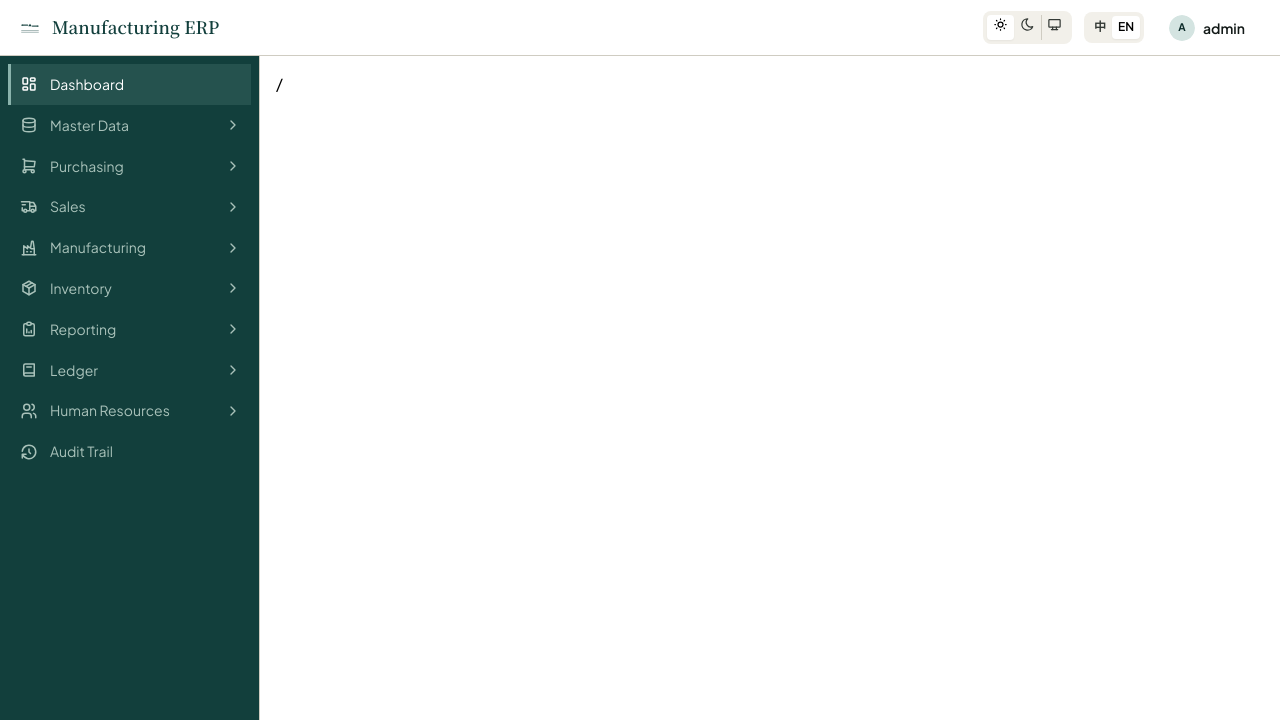
Scenario: AppLayout navigation (ERP-001) › expands a section via its chevron without navigating
Click the button named "purchasing".
click(233, 166)  # box [219,152,247,180]
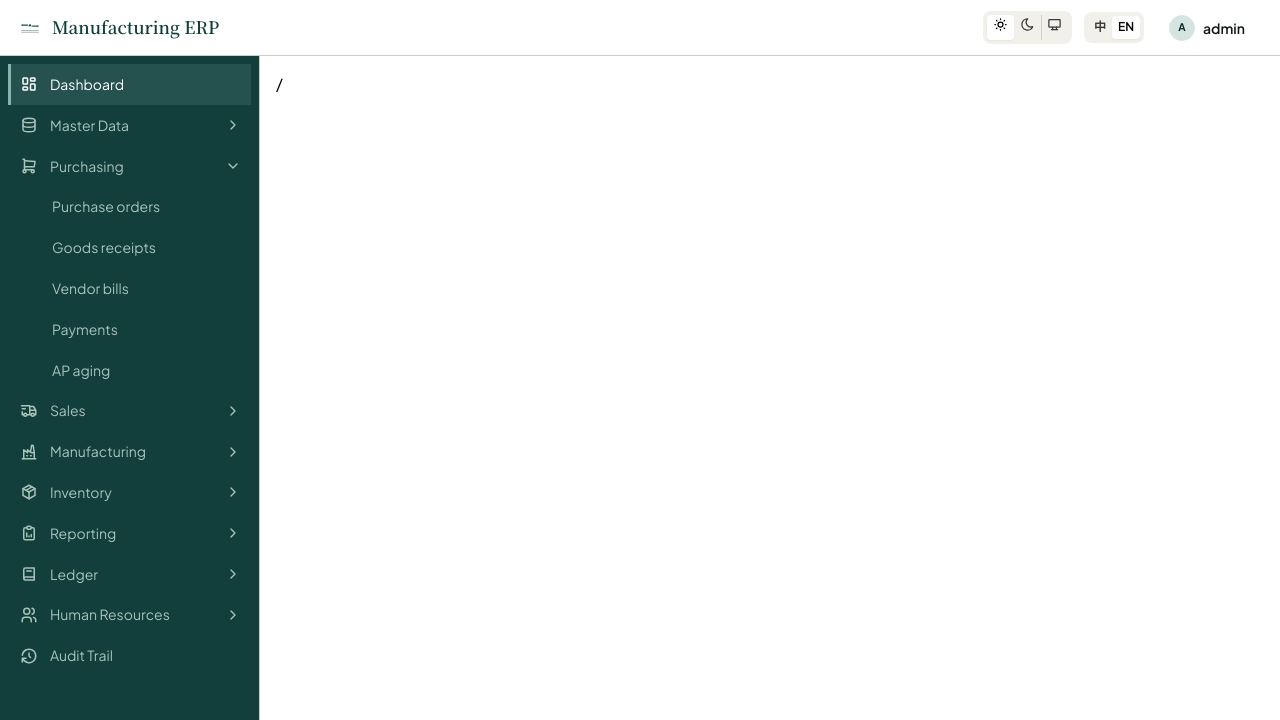
Expected: the text with test id "loc" reads "/", [276,73,283,94]
Expected: the button named "purchasing" is expanded, [219,152,247,180]
